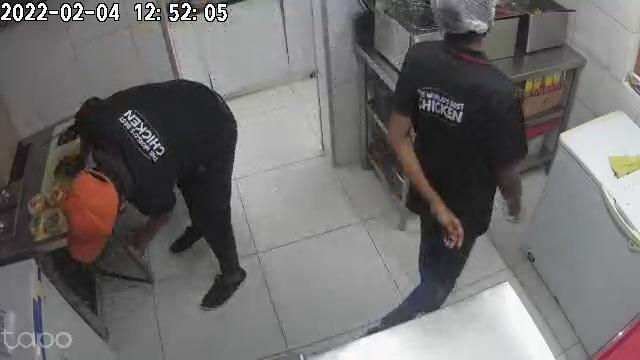no_gloves: (429, 194, 463, 252)
